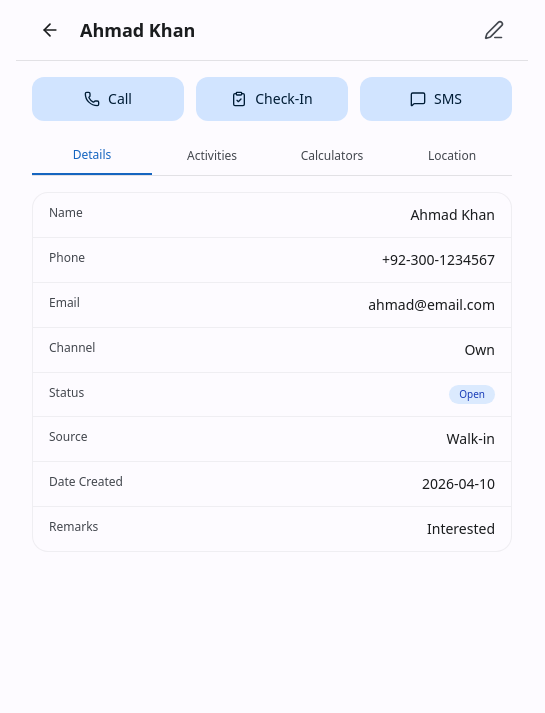
Test: LeadDetailContent › shows success snackbar after saving
The width and height of the screenshot is (545, 713).
Click the button named "Toggle edit". click: (494, 30)
box: [476,12,512,48]
(page scrolled)
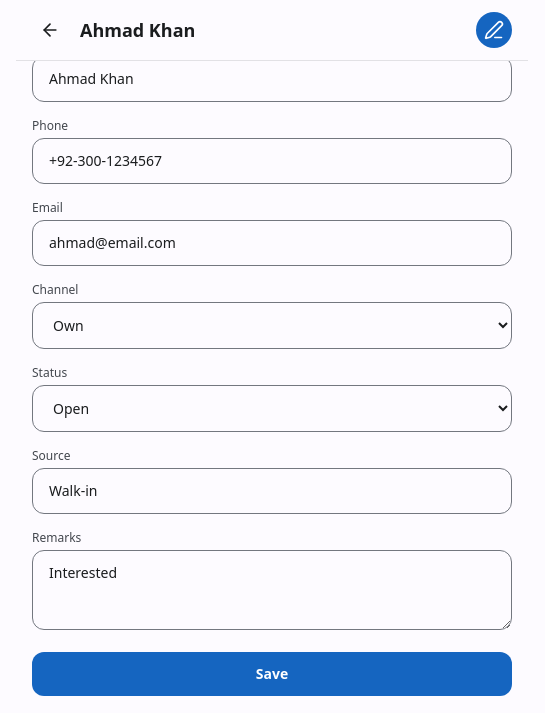
Click the button "Save". click: (272, 674)
box: [32,652,512,696]
(page scrolled)
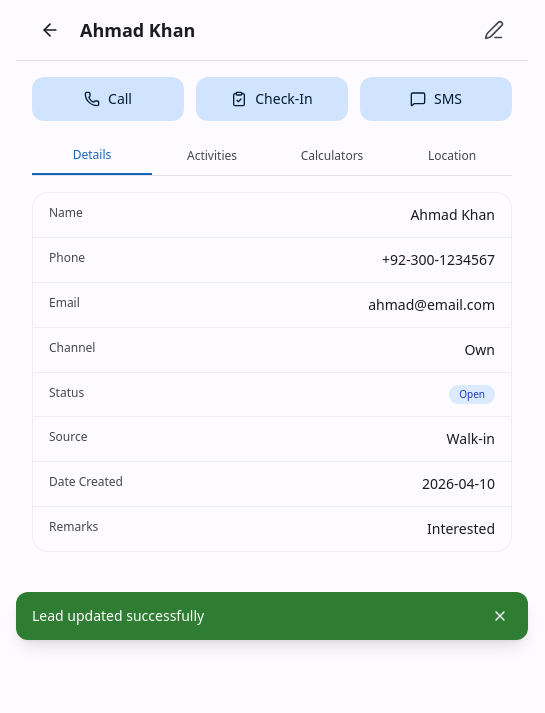
expect the text "Lead updated successfully" is shown: met, box [32,606,204,626]
